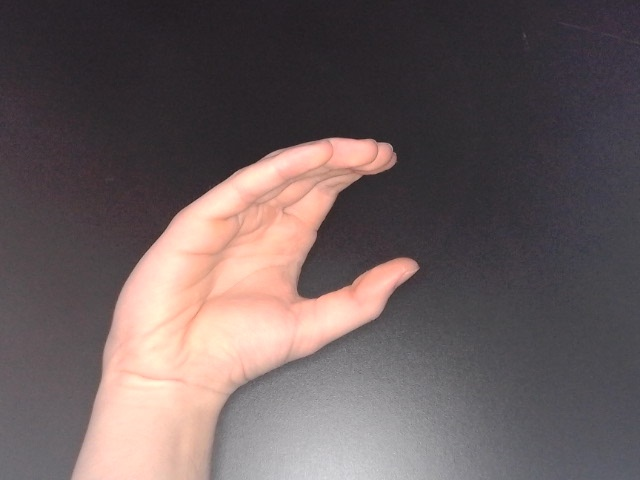c: (98, 133, 423, 402)
